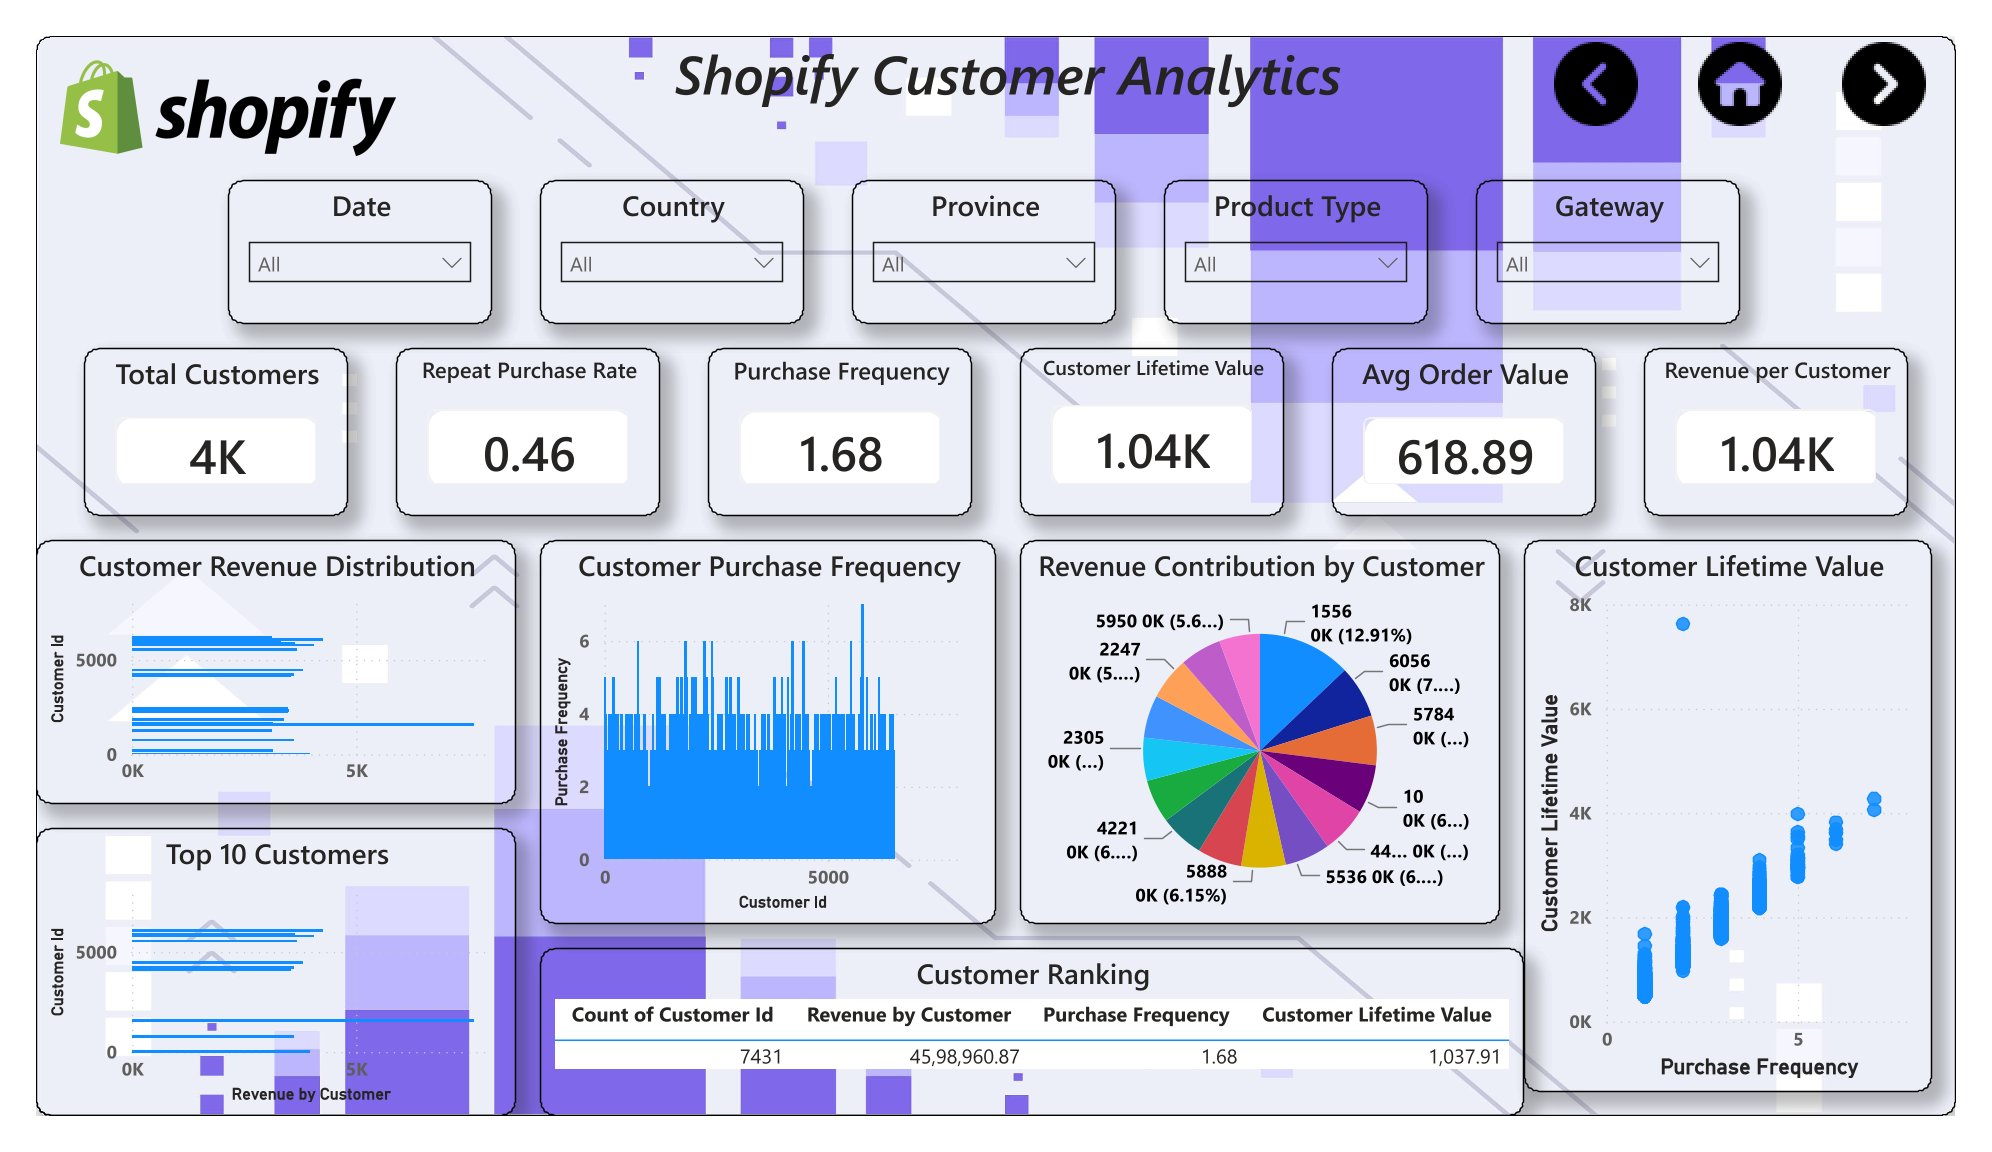

What the dashboard file says about the page in this screenshot:
{"tool":"powerbi","page":{"name":"Customers","canvas":[1280,720],"ordinal":3},"visuals":[{"type":"image","box":[0,0,1280,720],"z":0},{"type":"image","box":[16,0,224,96],"z":1000},{"type":"textbox","title":"Shopify Customer Analytics","box":[368,0,560,80],"z":2000},{"type":"actionButton","box":[1184,0,96,64],"z":3000},{"type":"actionButton","box":[1088,0,96,64],"z":4000},{"type":"actionButton","box":[992,0,96,64],"z":5000},{"type":"slicer","title":"Date","fields":{"Values":["shopify_sales.Invoice Date"]},"box":[128,96,176,96],"z":6000},{"type":"slicer","title":"Country","fields":{"Values":["shopify_sales.Billing Address Country"]},"box":[336,96,176,96],"z":7000},{"type":"slicer","title":"Province","fields":{"Values":["shopify_sales.Billing Address Province"]},"box":[544,96,176,96],"z":8000},{"type":"slicer","title":"Product Type","fields":{"Values":["shopify_sales.Product Type"]},"box":[752,96,176,96],"z":9000},{"type":"slicer","title":"Gateway","fields":{"Values":["shopify_sales.Gateway"]},"box":[960,96,176,96],"z":10000},{"type":"cardVisual","title":"Total Customers","fields":{"Data":["shopify_sales.Total Customers"]},"box":[32,208,176,112],"z":11000},{"type":"cardVisual","title":"Avg Order Value","fields":{"Data":["shopify_sales.Average Order Value"]},"box":[864,208,176,112],"z":12000},{"type":"cardVisual","title":"Repeat Purchase Rate","fields":{"Data":["shopify_sales.Repeat Purchase Rate"]},"box":[240,208,176,112],"z":13000},{"type":"cardVisual","title":"Customer Lifetime Value","fields":{"Data":["shopify_sales.Customer Lifetime Value"]},"box":[656,208,176,112],"z":14000},{"type":"cardVisual","title":"Purchase Frequency","fields":{"Data":["shopify_sales.Purchase Frequency"]},"box":[448,208,176,112],"z":15000},{"type":"cardVisual","title":"Revenue per Customer","fields":{"Data":["shopify_sales.Revenue per Customer"]},"box":[1072,208,176,112],"z":16000},{"type":"clusteredBarChart","title":"Customer Revenue Distribution","fields":{"Category":["shopify_sales.Customer Id"],"Y":["shopify_sales.Revenue by Customer"]},"box":[0,336,320,176],"z":17000},{"type":"clusteredBarChart","title":"Top 10 Customers","fields":{"Y":["shopify_sales.Revenue by Customer"],"Category":["shopify_sales.Customer Id"]},"box":[0,528,320,192],"z":18000},{"type":"clusteredColumnChart","title":"Customer Purchase Frequency","fields":{"Category":["shopify_sales.Customer Id"],"Y":["shopify_sales.Purchase Frequency"]},"box":[336,336,304,256],"z":19000},{"type":"scatterChart","title":"Customer Lifetime Value","fields":{"X":["shopify_sales.Purchase Frequency"],"Y":["shopify_sales.Customer Lifetime Value"],"Category":["shopify_sales.Customer Id"]},"box":[992,336,272,368],"z":20000},{"type":"pieChart","title":"Revenue Contribution by Customer","fields":{"Category":["shopify_sales.Customer Id"],"Y":["shopify_sales.Revenue Contribution %"]},"box":[656,336,320,256],"z":21000},{"type":"tableEx","title":"Customer Ranking","fields":{"Values":["CountNonNull(shopify_sales.Customer Id)","shopify_sales.Revenue by Customer","shopify_sales.Purchase Frequency","shopify_sales.Customer Lifetime Value"]},"box":[336,608,656,112],"z":22000}]}

Visuals, with their boxes in screenshot pixels (x1, y1, x2, y2), scaled from the page's 1280x720 canvas onto the 1992x1152 screenshot:
image: 0:0:1991:1151
image: 25:0:374:154
"Shopify Customer Analytics" textbox: 573:0:1444:128
actionButton: 1843:0:1991:102
actionButton: 1693:0:1843:102
actionButton: 1544:0:1693:102
"Date" slicer: 199:154:473:307
"Country" slicer: 523:154:797:307
"Province" slicer: 847:154:1120:307
"Product Type" slicer: 1170:154:1444:307
"Gateway" slicer: 1494:154:1768:307
"Total Customers" cardVisual: 50:333:324:512
"Avg Order Value" cardVisual: 1345:333:1618:512
"Repeat Purchase Rate" cardVisual: 374:333:647:512
"Customer Lifetime Value" cardVisual: 1021:333:1295:512
"Purchase Frequency" cardVisual: 697:333:971:512
"Revenue per Customer" cardVisual: 1668:333:1942:512
"Customer Revenue Distribution" clusteredBarChart: 0:538:498:819
"Top 10 Customers" clusteredBarChart: 0:845:498:1151
"Customer Purchase Frequency" clusteredColumnChart: 523:538:996:947
"Customer Lifetime Value" scatterChart: 1544:538:1967:1126
"Revenue Contribution by Customer" pieChart: 1021:538:1519:947
"Customer Ranking" tableEx: 523:973:1544:1151
